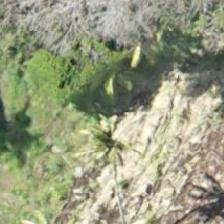coconut_tree: (60, 97, 150, 187)
